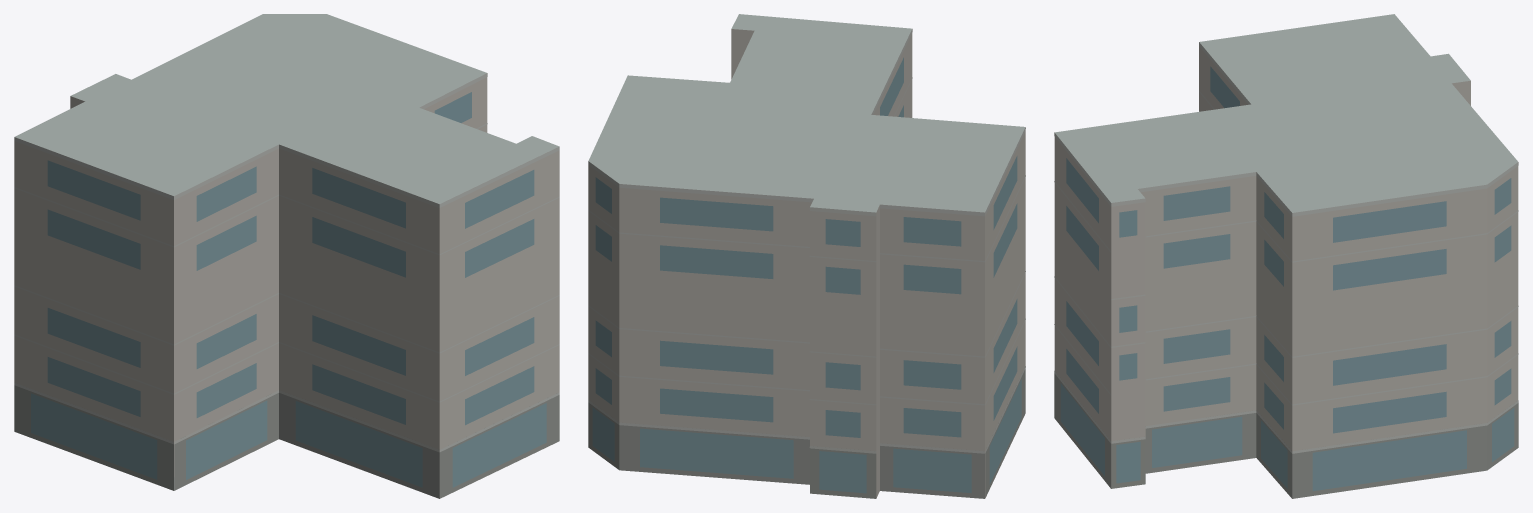
The model's file is survey-upis-32697610.glb.
3 renders of one model, left to right at view 1: azimuth 30°, elevation 25°; view 2: azimuth 150°, elevation 25°; view 3: azimuth 270°, elevation 25°, orthographic. The views are drawn at different scales.
Parts seen in each view (by area): view 1: survey-upis-32697610.tmp; view 2: survey-upis-32697610.tmp; view 3: survey-upis-32697610.tmp.
Part boxes in pixels (x1,y1,x2,y2): survey-upis-32697610.tmp: [14, 14, 559, 498]; survey-upis-32697610.tmp: [588, 14, 1025, 498]; survey-upis-32697610.tmp: [1054, 14, 1518, 498].
Size of the model in its own units: 27.35 by 18.3 by 26.94.
